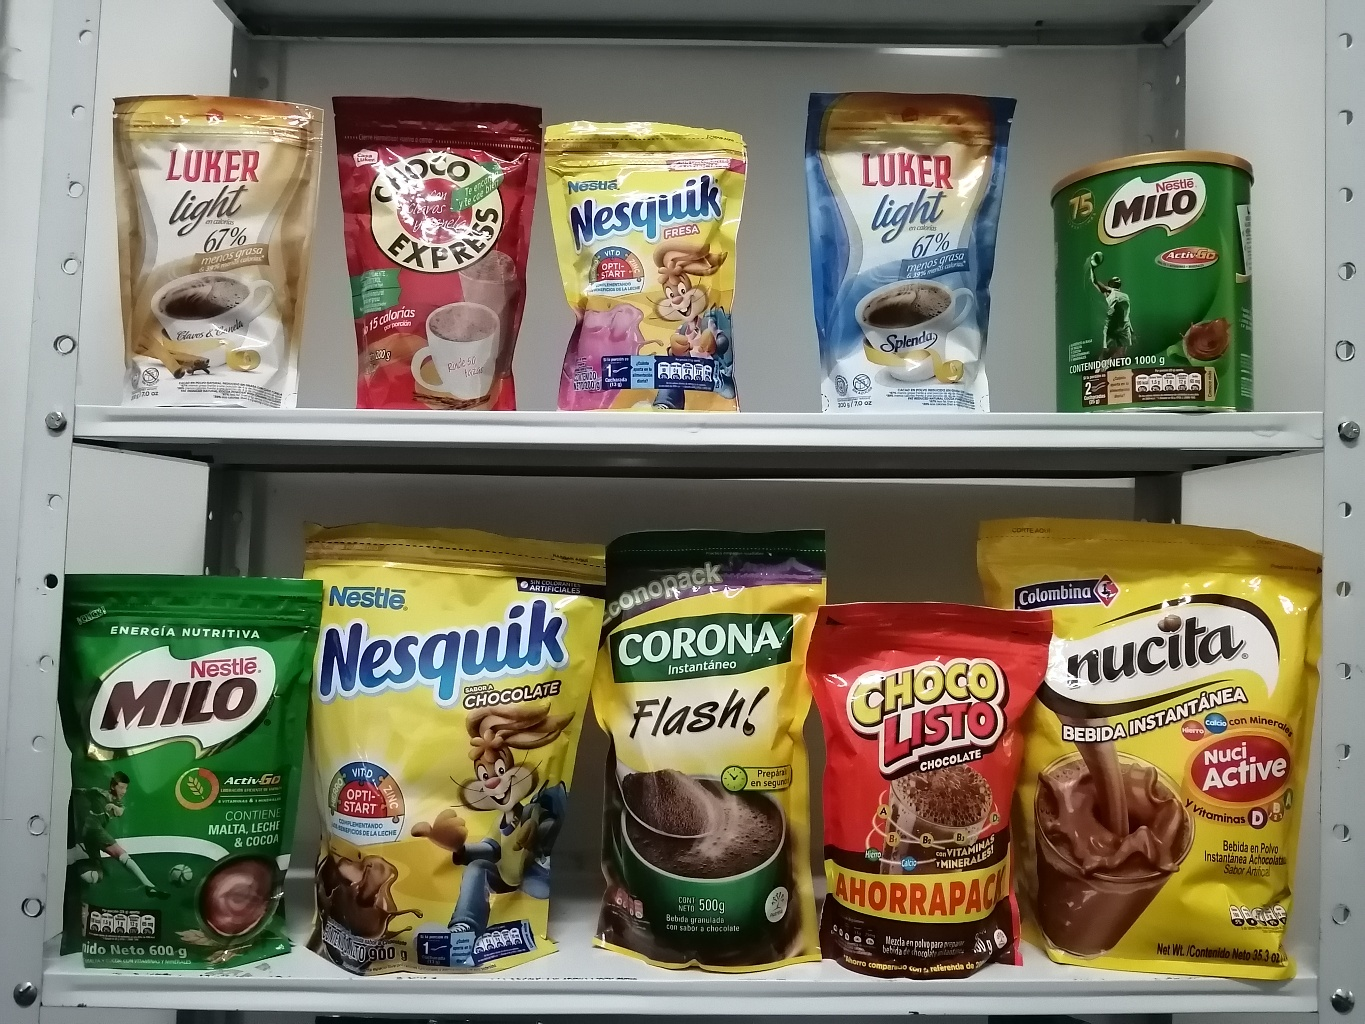COL0170103DYP40000: (796, 591, 1040, 990)
COL0170305DYP20000: (551, 112, 756, 412)
